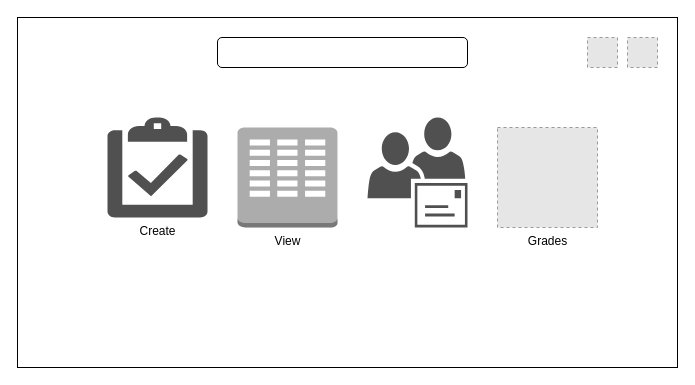
The diagram is 695 pixels wide and 385 high, and some of its shapes have lost their labels. Grey dashed boxes stand in for pictures. Here are the shapes that lost their labels. From the top down, the box of each, then its label:
(216, 36, 468, 68): Assignments
(367, 117, 467, 227): Distribute
